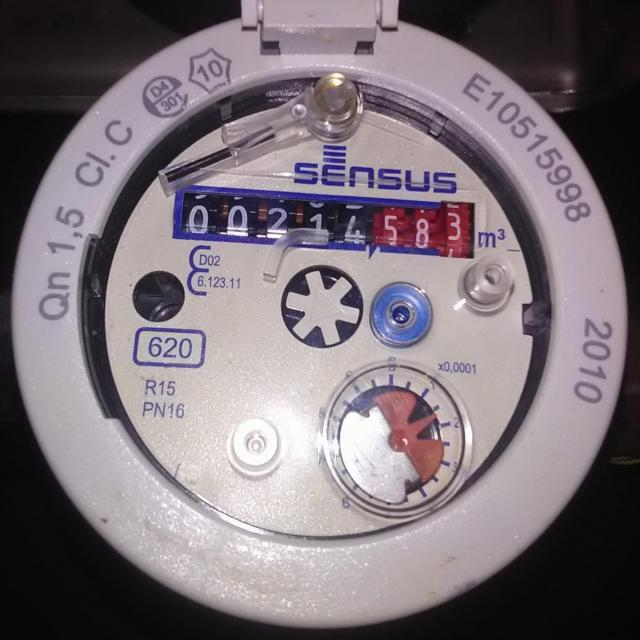gaz_meter: (8, 7, 622, 624)
indication: (178, 186, 465, 259)
